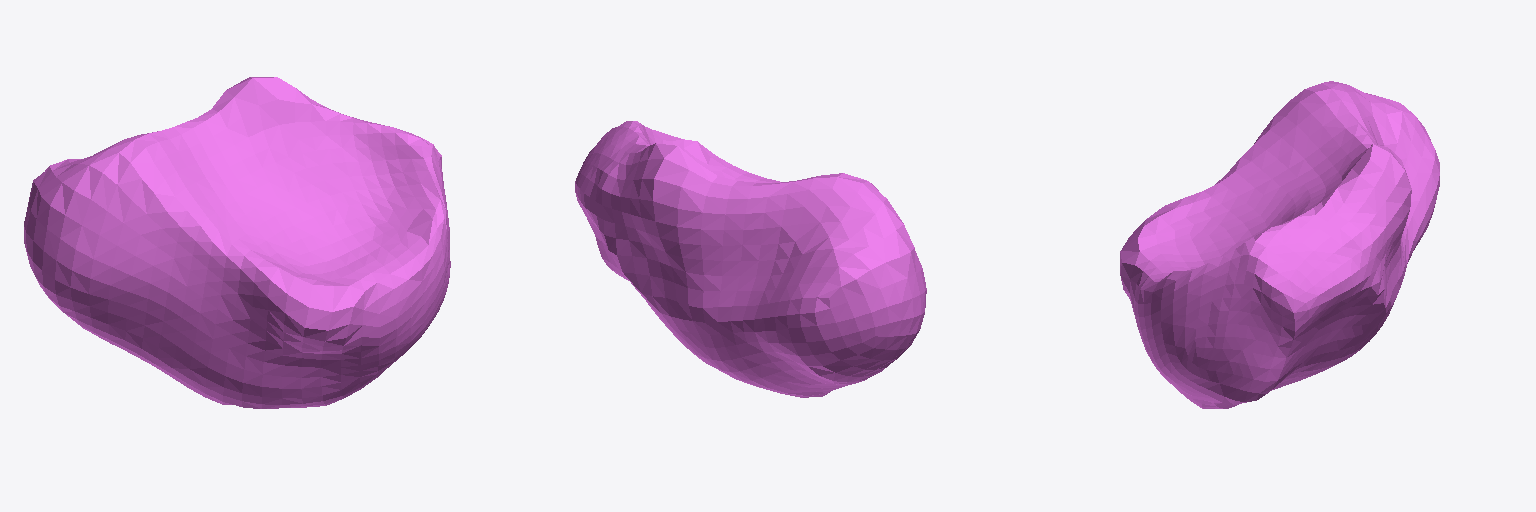
The model's file is Navicular.obj.
3 views of the same model, side by side, from view 1: azimuth 30°, elevation 25°; view 2: azimuth 150°, elevation 25°; view 3: azimuth 270°, elevation 25° (orthographic).
Visible parts, largest first — view 1: Object_0Navicular; view 2: Object_0Navicular; view 3: Object_0Navicular.
Boxes of the visible parts, x1=… form: Object_0Navicular: x1=24, y1=77, x2=450, y2=408; Object_0Navicular: x1=575, y1=121, x2=926, y2=397; Object_0Navicular: x1=1120, y1=81, x2=1439, y2=408.
Size of the model in its own units: 42.28 by 29.23 by 31.76.